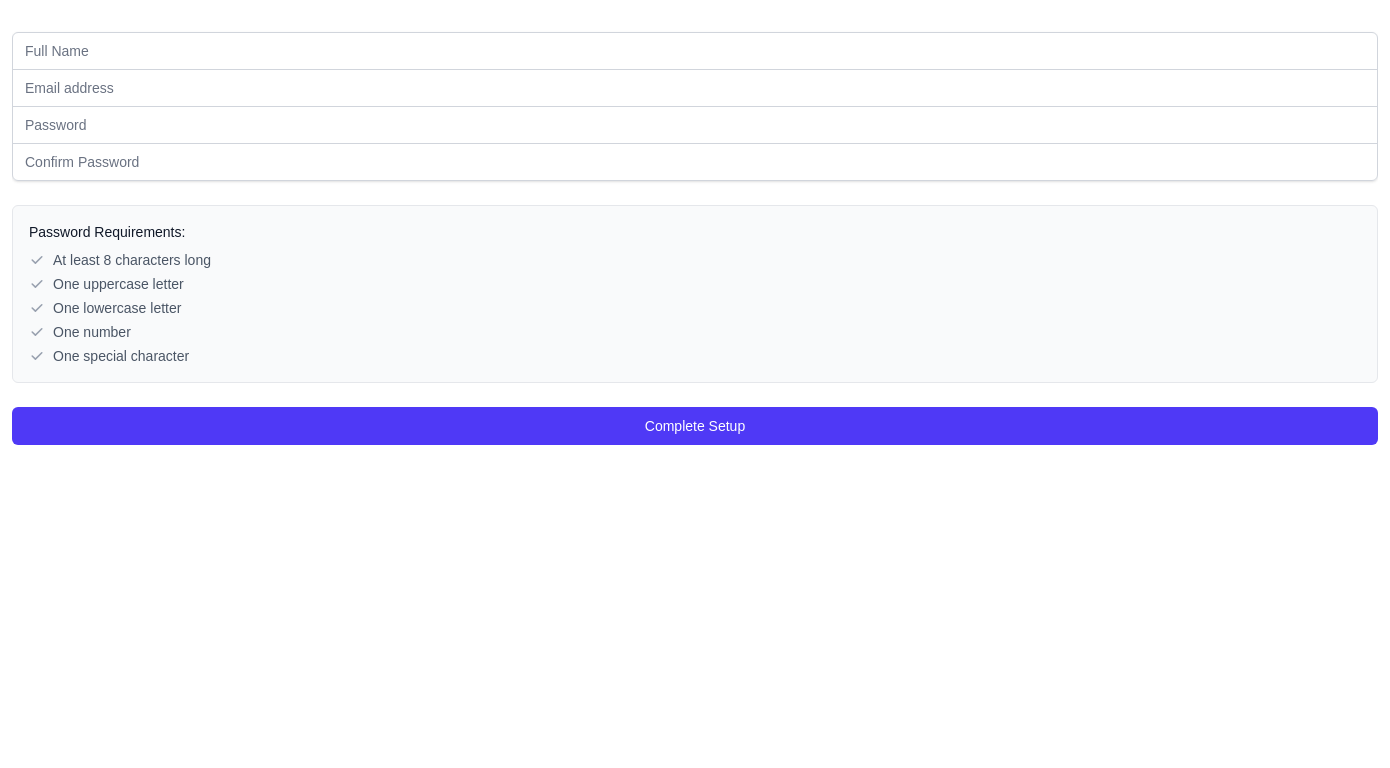
Test: SetupForm › should validate name length
Type "a" into the field with test id "name-input" at point(695, 51), box 12,32 -> 1378,70
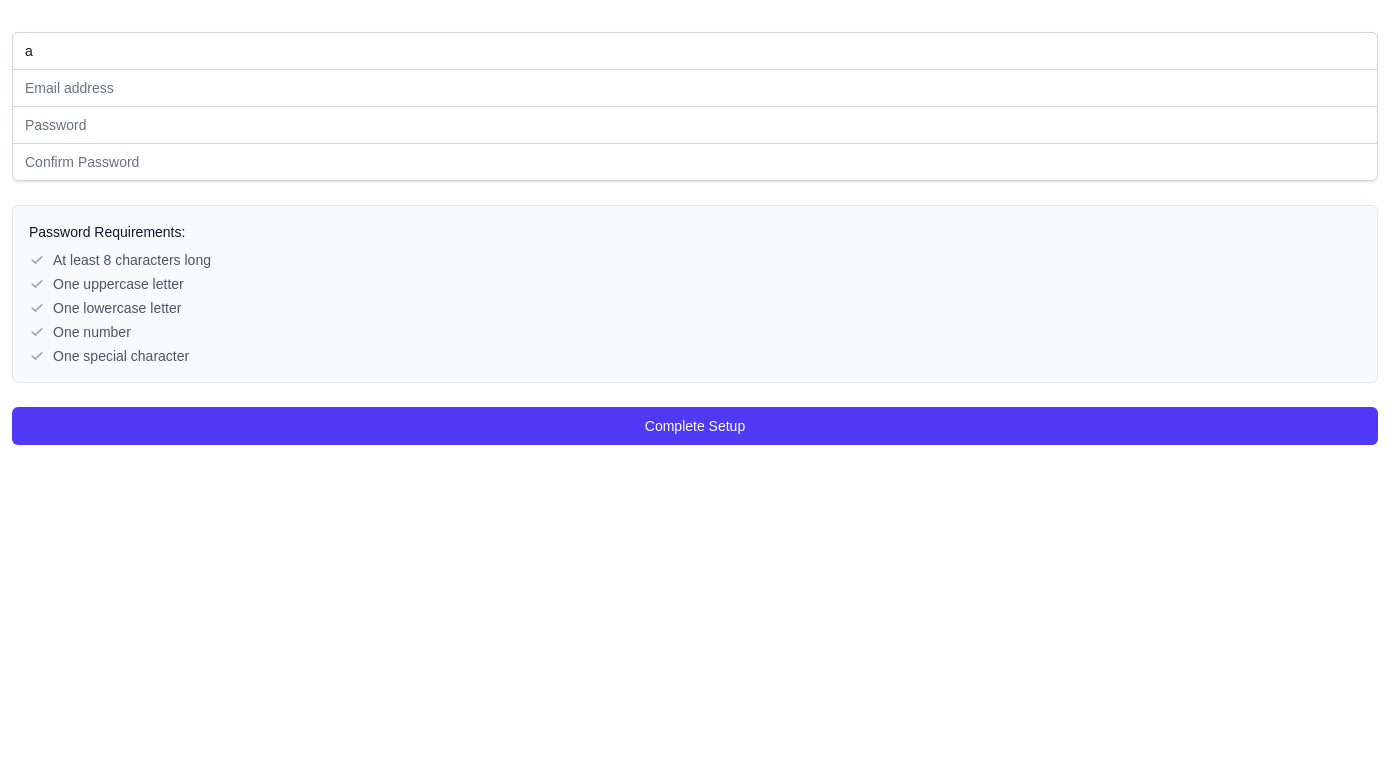
Click the button with test id "setup-button" at point(695, 426), box 12,407 -> 1378,445
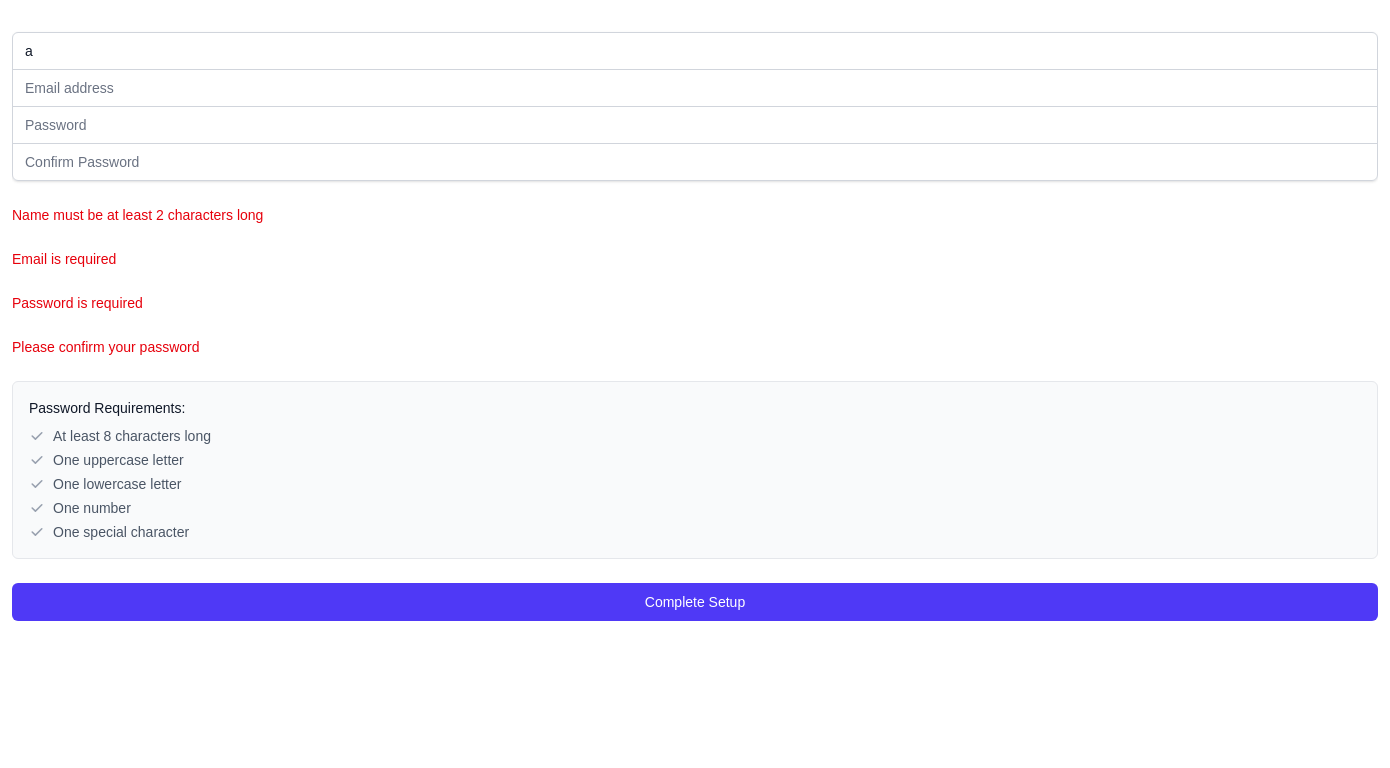
Expected: the text "Name must be at least 2 characters long" is shown, 12,207 -> 263,223
